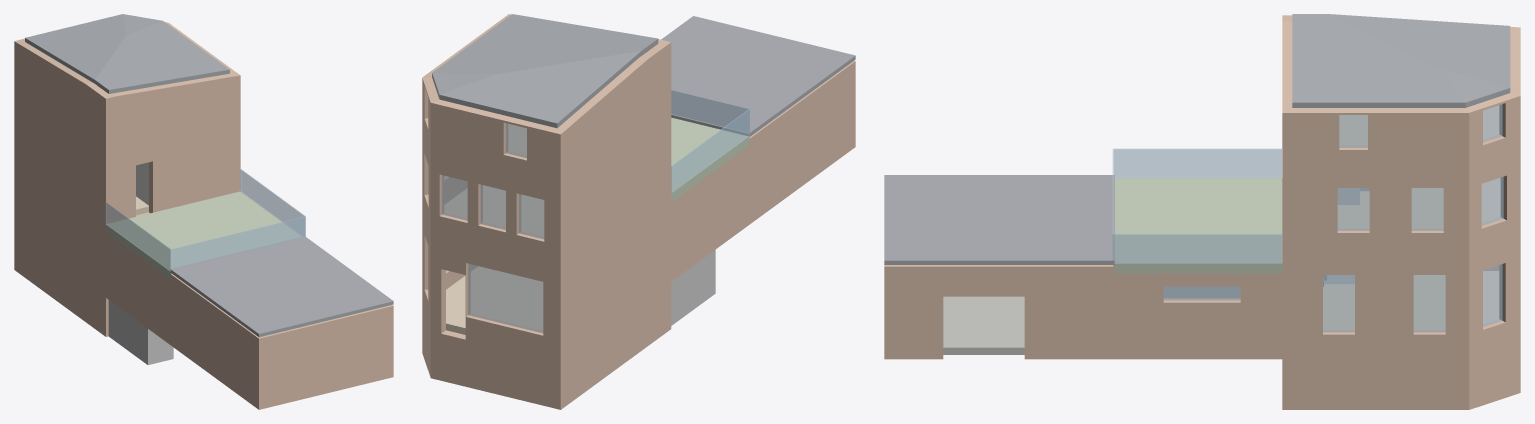
Rendered from maison (2).gltf.
The picture shows the model from 3 angles, left to right: view 1: azimuth 30°, elevation 25°; view 2: azimuth 150°, elevation 25°; view 3: azimuth 270°, elevation 25°; orthographic projection. The views are drawn at different scales.
Parts seen in each view (by area): view 1: 1-toiture-garage, 0I, 1-terrasse-projet, 2C, 1C, 0D, 0H, T-pan-cote-b, 2D, 1D, 1-terrasse-projet-garde-corps, 0E (+6 smaller); view 2: 1-toiture-garage, 0D, 0H, 2D, 2A, 1D, T-pan-cote-b, 1A, 0A, SA, 0E, T-pan-cote-a (+18 smaller); view 3: 1-toiture-garage, 0J, 1-terrasse-projet, 0B, 0F, 2B, 1B, T-pan-cote-b, 1-terrasse-projet-garde-corps, SB, 0-garage, T-pan-cote-a (+20 smaller).
Part boxes in pixels (left/top/right/bottom): 1-toiture-garage: left=170, top=236, right=393, bottom=337; 0I: left=259, top=305, right=393, bottom=409; 1-terrasse-projet: left=106, top=191, right=301, bottom=279; 2C: left=106, top=73, right=240, bottom=162; 1C: left=106, top=130, right=240, bottom=223; 0D: left=14, top=160, right=105, bottom=297; 0H: left=170, top=274, right=259, bottom=409; T-pan-cote-b: left=67, top=21, right=229, bottom=93; 2D: left=14, top=41, right=108, bottom=162; 1D: left=14, top=96, right=105, bottom=226; 1-terrasse-projet-garde-corps: left=105, top=169, right=305, bottom=271; 0E: left=106, top=232, right=170, bottom=344; 1-toiture-garage: left=661, top=16, right=855, bottom=136; 0D: left=560, top=196, right=671, bottom=362; 0H: left=748, top=61, right=855, bottom=224; 2D: left=557, top=42, right=671, bottom=199; 2A: left=430, top=99, right=560, bottom=199; 1D: left=560, top=119, right=671, bottom=276; T-pan-cote-b: left=433, top=14, right=658, bottom=83; 1A: left=430, top=168, right=560, bottom=276; 0A: left=430, top=245, right=560, bottom=362; SA: left=430, top=330, right=560, bottom=409; 0E: left=671, top=146, right=748, bottom=281; T-pan-cote-a: left=439, top=70, right=608, bottom=128; 1-toiture-garage: left=884, top=175, right=1114, bottom=264; 0J: left=884, top=265, right=1114, bottom=359; 1-terrasse-projet: left=1113, top=178, right=1282, bottom=273; 0B: left=1282, top=266, right=1469, bottom=359; 0F: left=1115, top=273, right=1282, bottom=359; 2B: left=1282, top=108, right=1469, bottom=183; 1B: left=1282, top=183, right=1469, bottom=266; T-pan-cote-b: left=1292, top=14, right=1465, bottom=107; 1-terrasse-projet-garde-corps: left=1112, top=148, right=1281, bottom=263; SB: left=1282, top=359, right=1469, bottom=409; 0-garage: left=943, top=296, right=1024, bottom=354; T-pan-cote-a: left=1399, top=18, right=1510, bottom=87.
Bounding box in the file's own units: 6.35 × 10.95 × 19.86.
